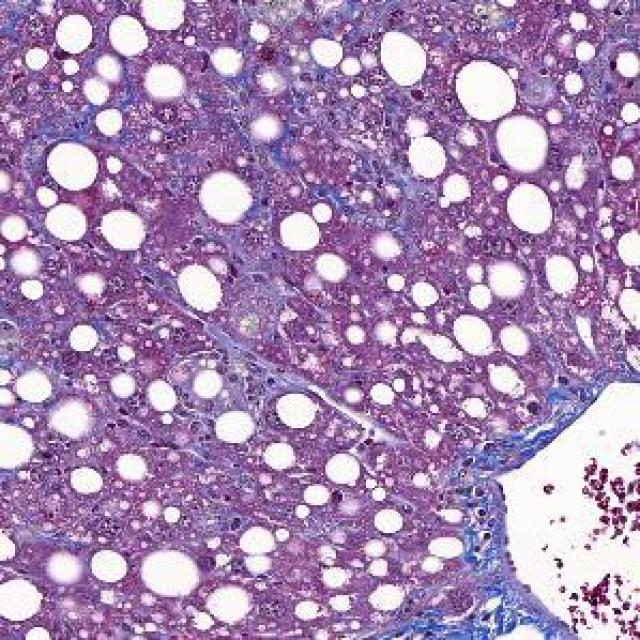fibrosis: (210, 278, 336, 402), (447, 449, 520, 586)
